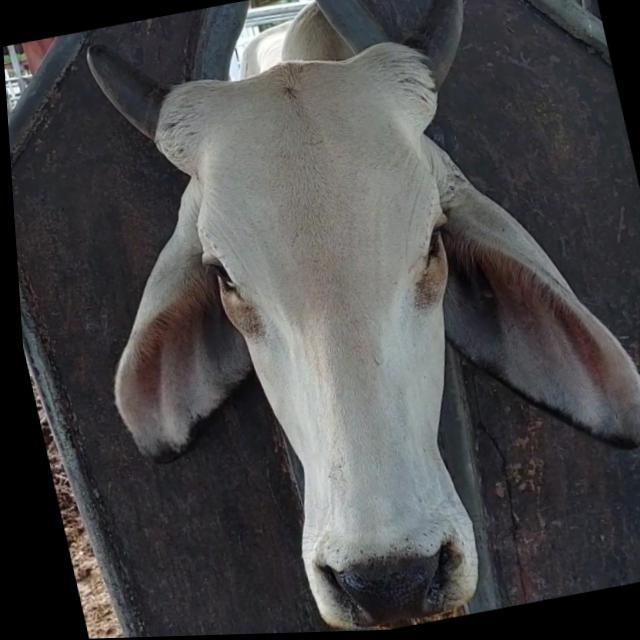cowFace: (169, 36, 527, 636)
